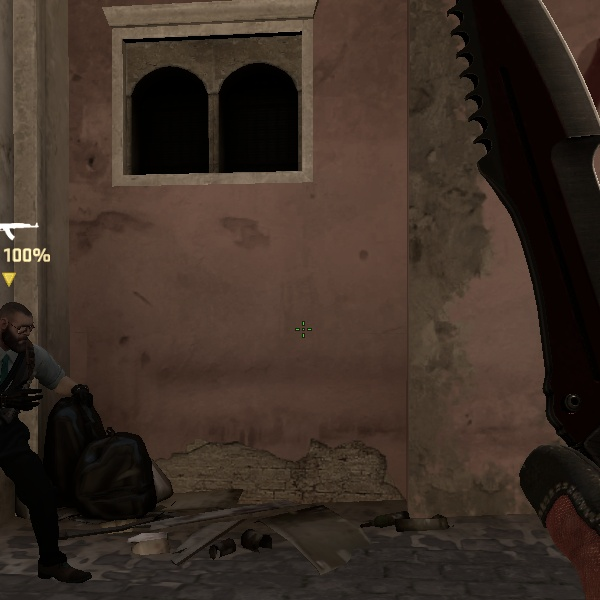t_body: (2, 298, 86, 582)
t_head: (1, 292, 45, 360)
